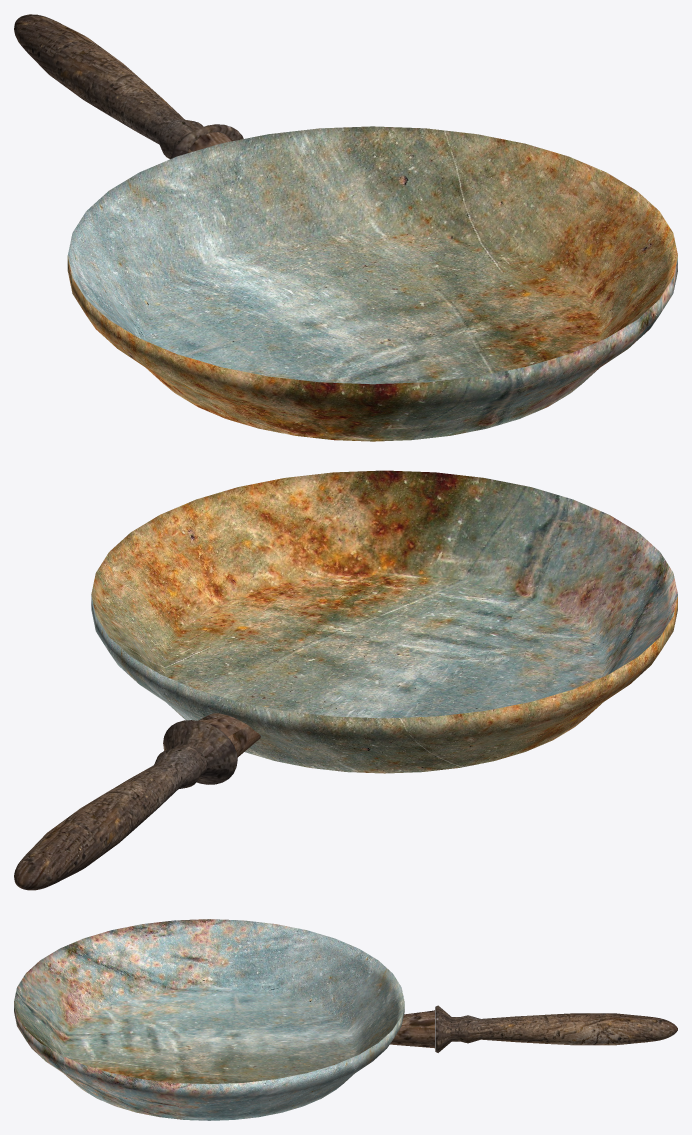
Rendered from frying_pan.gltf.
3 views of the same model, one above another, from view 1: azimuth 30°, elevation 25°; view 2: azimuth 150°, elevation 25°; view 3: azimuth 270°, elevation 25° (orthographic). The views are drawn at different scales.
Visible parts, largest first — view 1: pan; view 2: pan; view 3: pan.
Boxes of the visible parts, x1,y1,x2,y2 form: pan: (14,14,677,441); pan: (14,470,677,890); pan: (14,919,677,1120).
Bounding box in the file's own units: 0.2529 × 0.041 × 0.4299.
2 materials, 2 textured.
